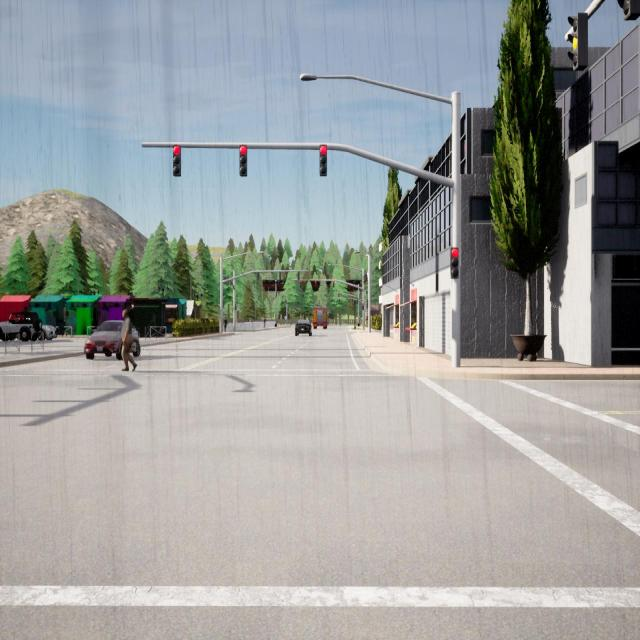Pedestrian: (121, 308, 137, 371), (223, 315, 228, 332), (263, 314, 266, 328)
Traffic_Signs: (284, 316, 287, 320)
Vehicle: (84, 320, 141, 361), (0, 312, 42, 342), (312, 308, 328, 330), (295, 319, 312, 336), (42, 324, 56, 340)
traffic_light: (567, 10, 589, 74), (616, 0, 640, 20), (450, 248, 459, 278), (173, 145, 181, 176), (319, 145, 326, 176), (240, 145, 247, 176), (300, 280, 302, 288), (279, 272, 281, 280), (298, 272, 300, 280), (222, 300, 224, 308), (362, 303, 364, 310), (315, 280, 317, 287), (363, 276, 365, 283), (258, 272, 260, 279), (333, 281, 335, 287), (235, 304, 237, 310), (331, 298, 333, 302), (338, 293, 340, 297), (348, 298, 350, 302), (365, 274, 366, 282), (367, 274, 368, 282), (339, 298, 340, 302)
